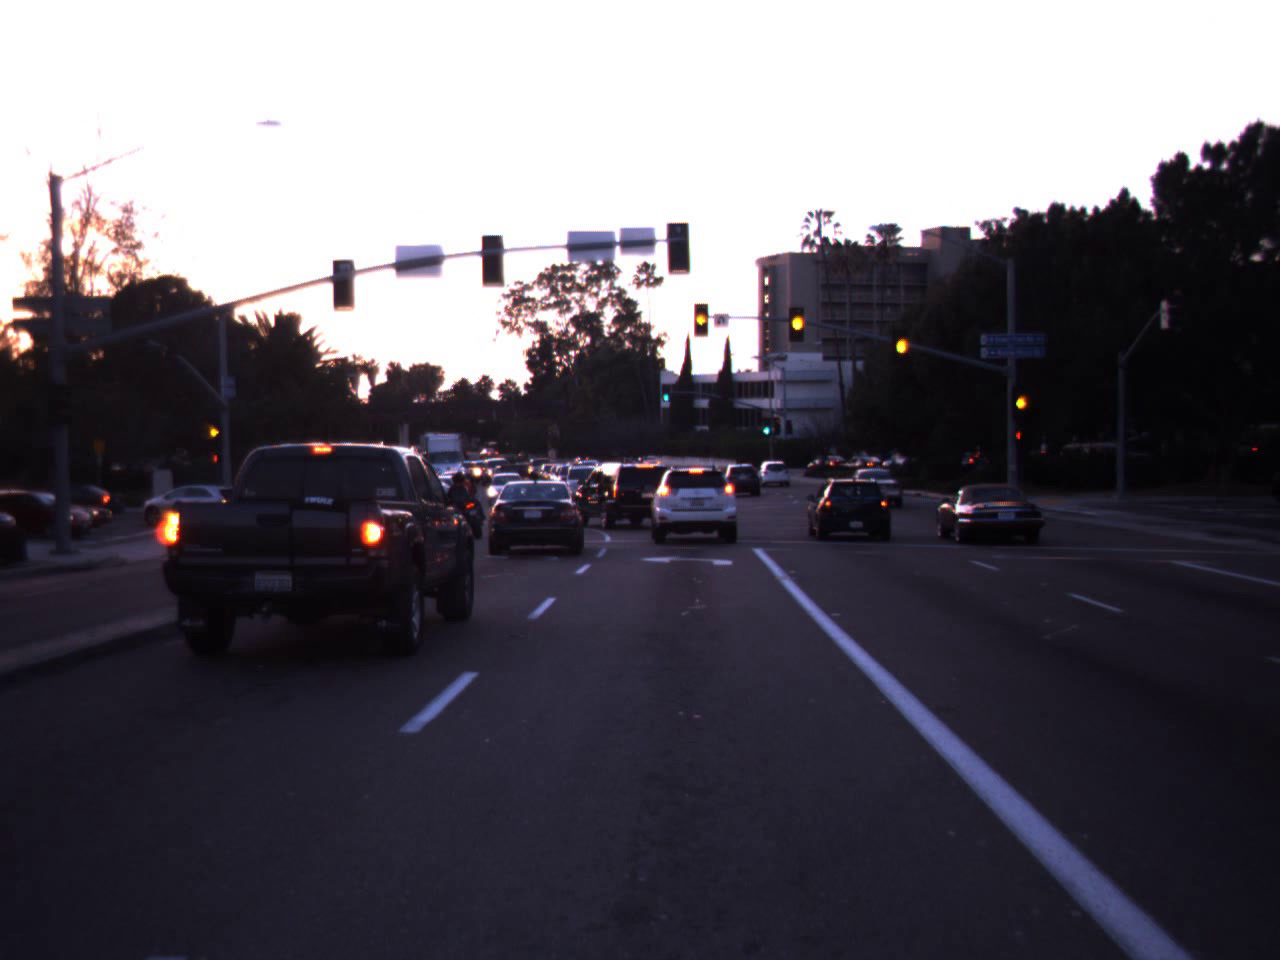go: (759, 407, 774, 437), (660, 382, 672, 402)
warning: (884, 303, 917, 379), (784, 295, 811, 344), (682, 301, 721, 332), (202, 407, 226, 452), (1011, 378, 1032, 423)
